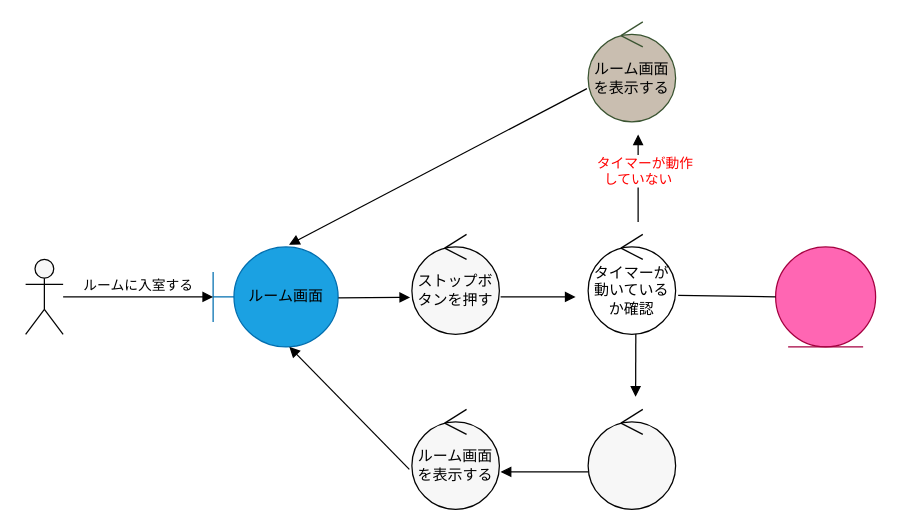
Image size: 898x531. Some labels were removed from this diagram. The shapes that lost their labels are listed below. From the top down, each one's centre as x and y in pixels, then its label:
At [43,296]: "ユーザ".
At [825,296]: "タイマー".
At [631,458]: "タイマーカウントを停止させる".
